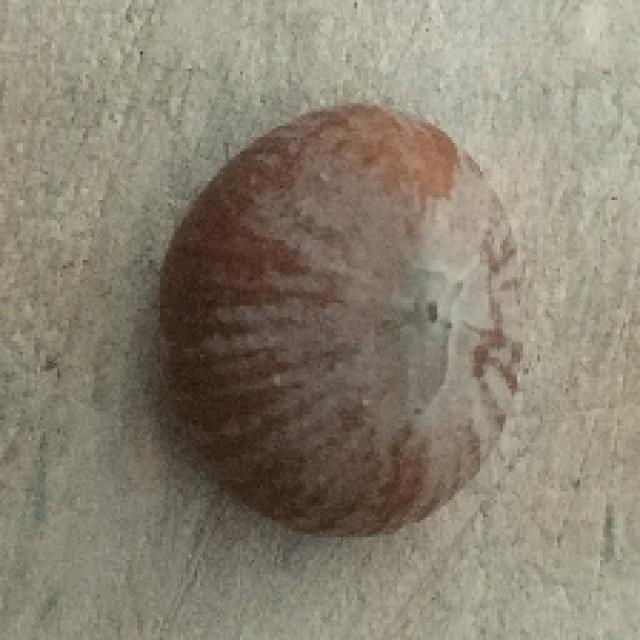qualityHazelnut: (144, 90, 547, 547)
